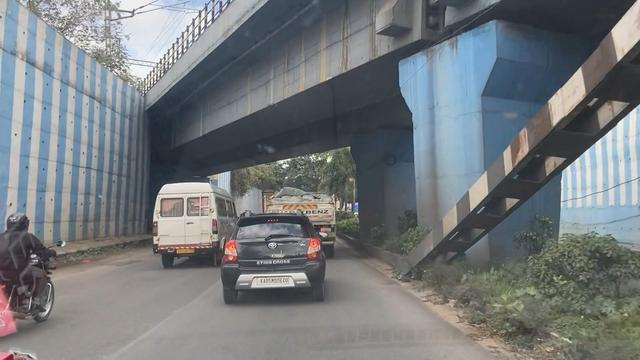HMV: (153, 179, 234, 268)
LMV: (219, 207, 335, 309), (0, 214, 92, 330)
